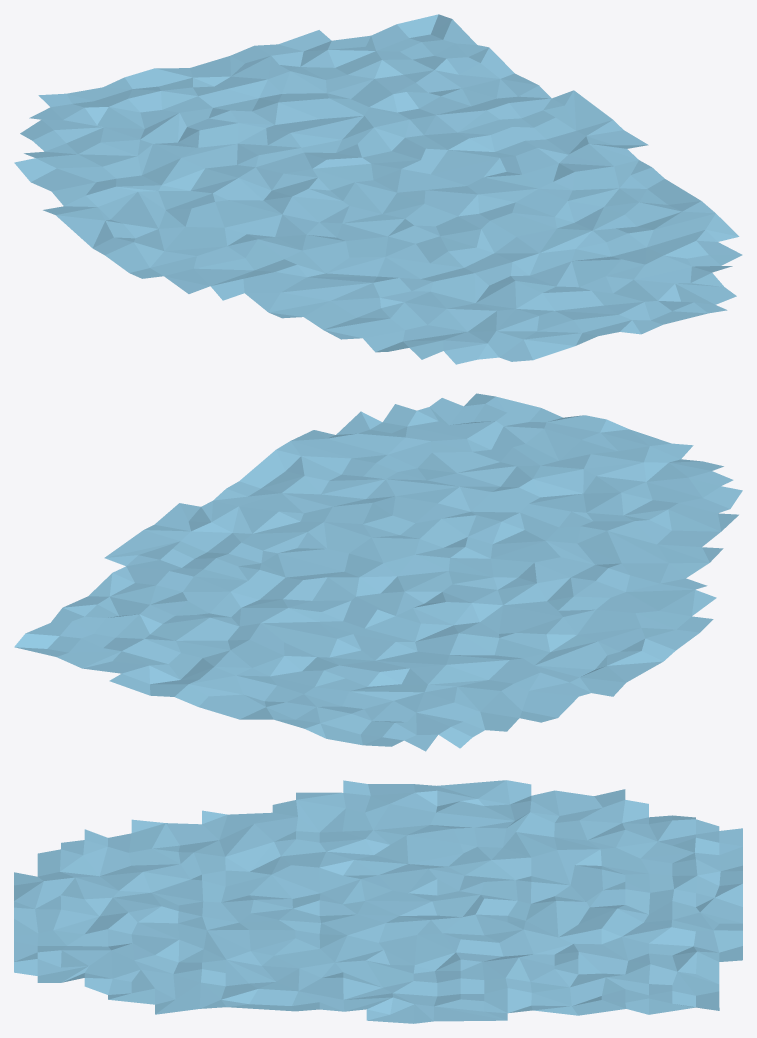
The model's file is water.fbx.
3 views of the same model, one above another, from view 1: azimuth 30°, elevation 25°; view 2: azimuth 150°, elevation 25°; view 3: azimuth 270°, elevation 25° (orthographic). The views are drawn at different scales.
Parts seen in each view (by area): view 1: Plane; view 2: Plane; view 3: Plane.
Boxes of the visible parts, x1,y1,x2,y2 form: Plane: (14,14,742,364); Plane: (14,393,742,751); Plane: (14,780,742,1023).
Size of the model in its own units: 3604 by 76.72 by 4655.
